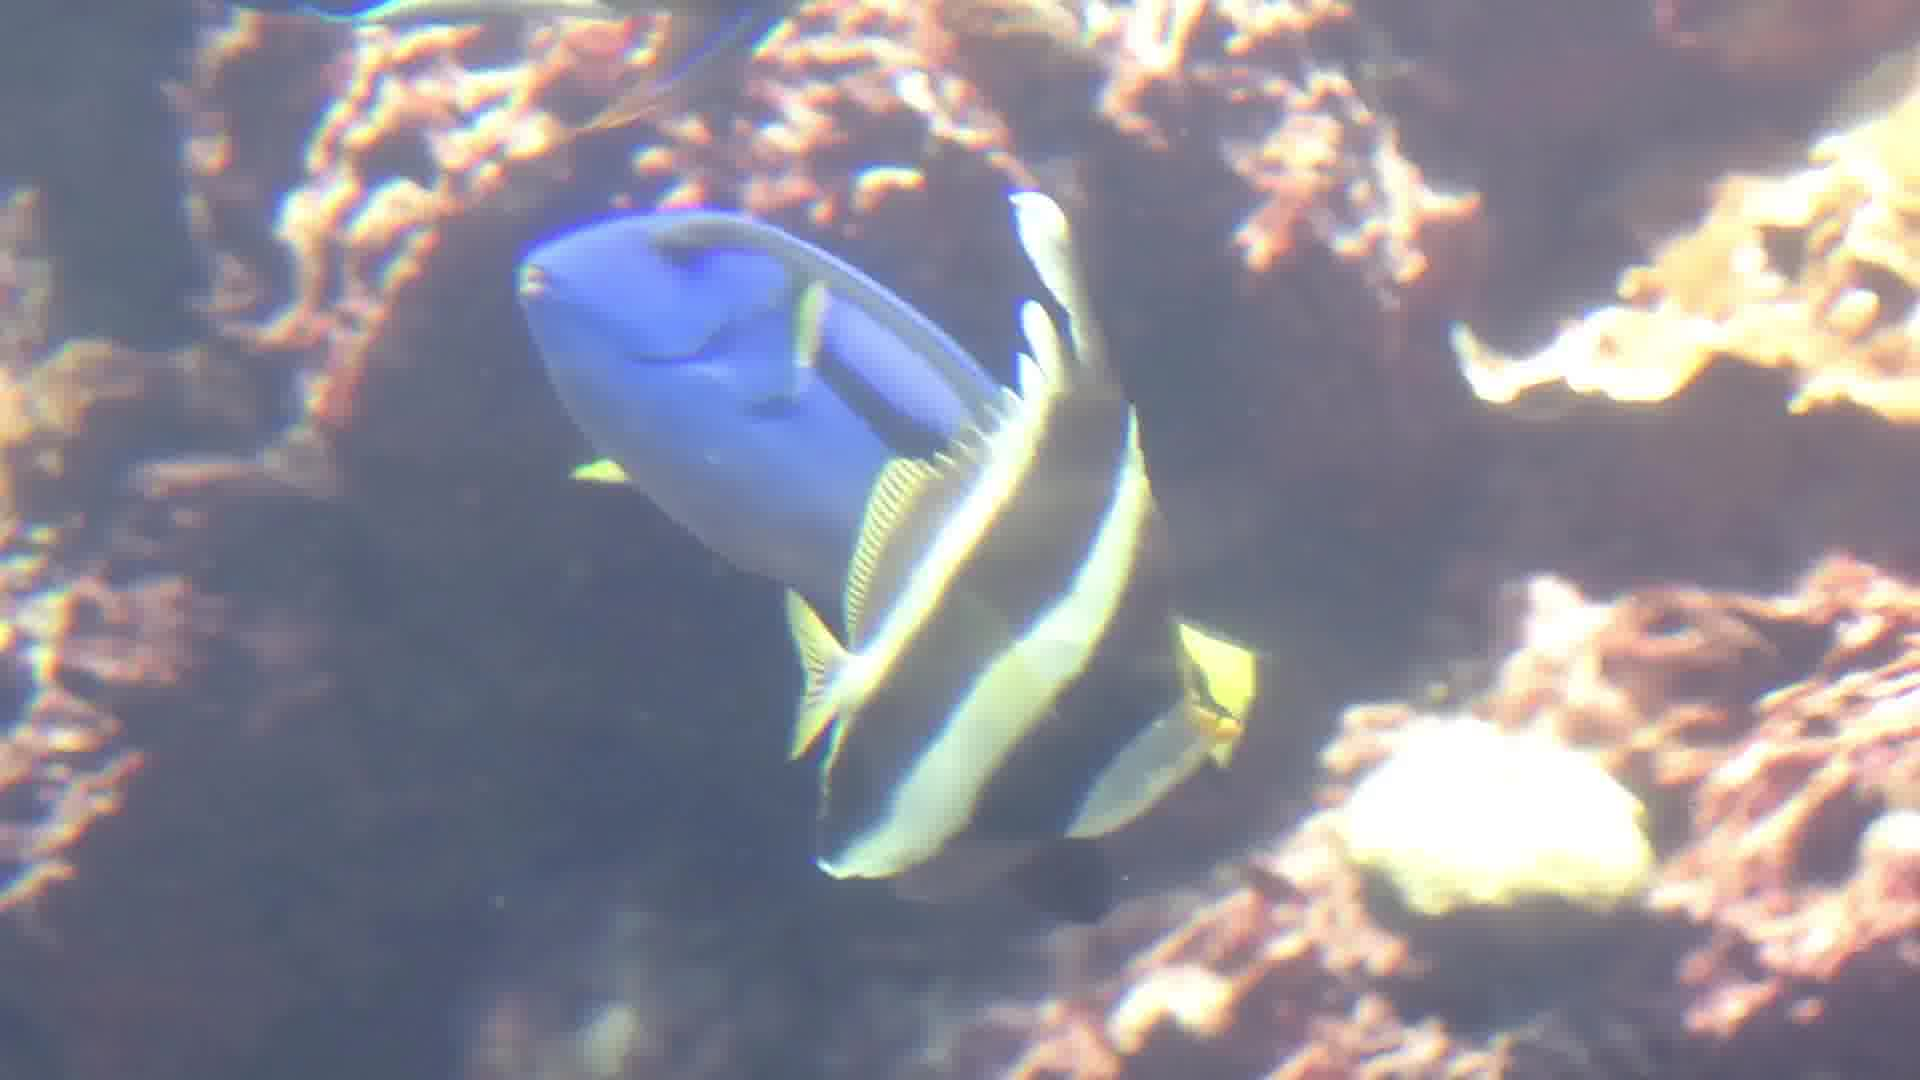Heniochus chrysostomus: (796, 160, 1266, 911)
